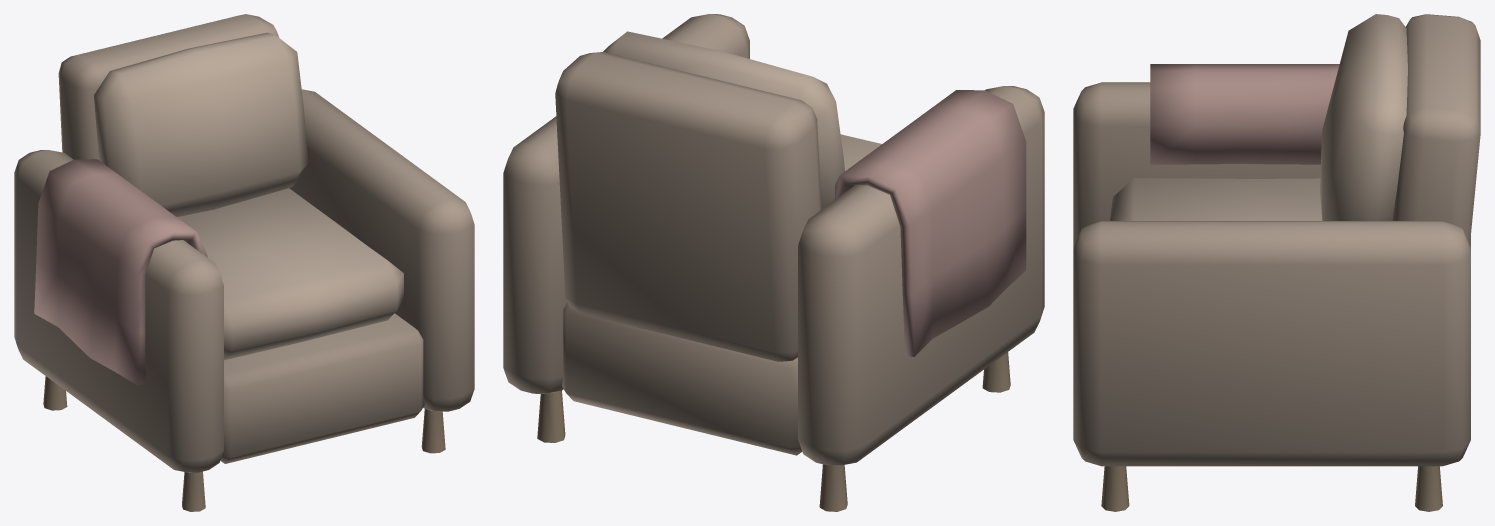
The model's file is armchair.glb.
The picture shows the model from 3 angles, left to right: view 1: azimuth 30°, elevation 25°; view 2: azimuth 150°, elevation 25°; view 3: azimuth 270°, elevation 25°; orthographic projection. The views are drawn at different scales.
Visible parts, largest first — view 1: furn_armchair; view 2: furn_armchair; view 3: furn_armchair.
Part boxes in pixels (x1,y1,x2,y2): furn_armchair: [14, 14, 474, 511]; furn_armchair: [503, 14, 1044, 511]; furn_armchair: [1073, 14, 1480, 511].
Size of the model in its own units: 0.8949 by 0.9092 by 0.8706.
